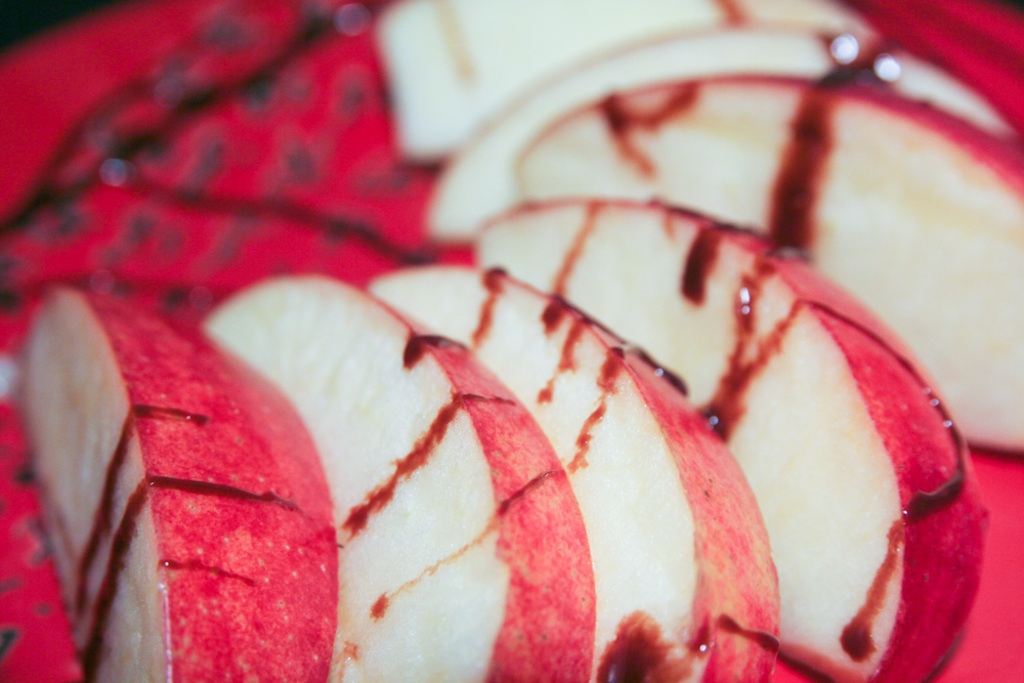Apple: (188, 0, 1022, 681), (12, 282, 337, 681)
